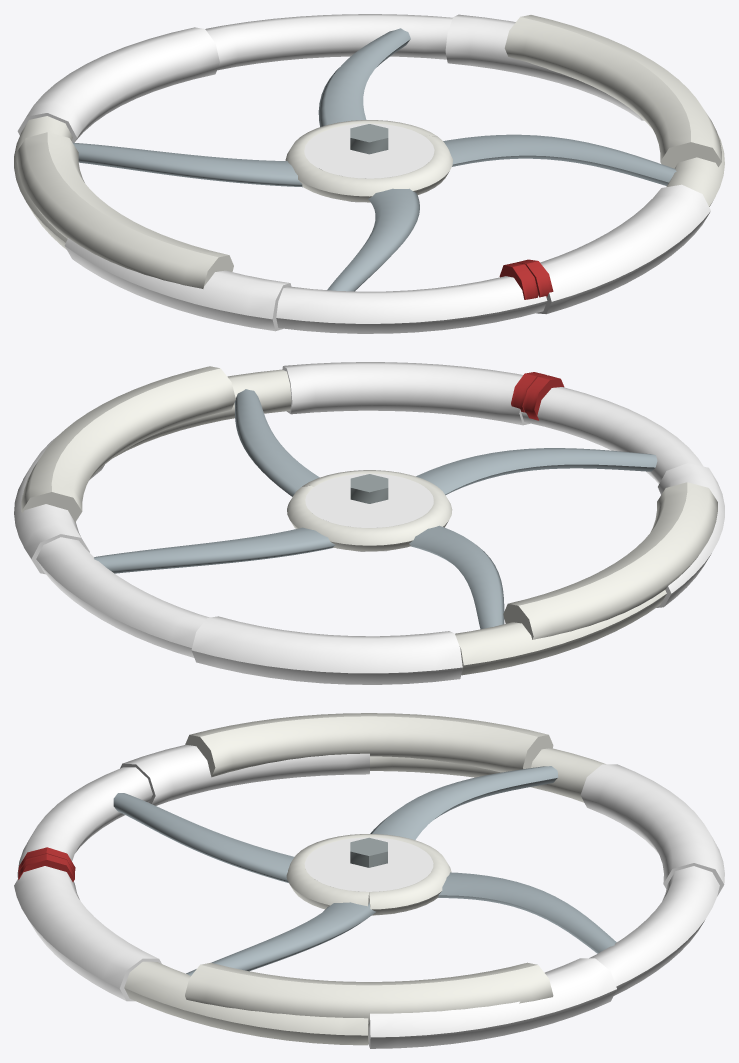
File: Wheel_10_R_外舷・群青.glb
3 views of the same model, one above another, from view 1: azimuth 30°, elevation 25°; view 2: azimuth 150°, elevation 25°; view 3: azimuth 270°, elevation 25° (orthographic).
Visible parts, largest first — view 1: Wheel_10_R; view 2: Wheel_10_R; view 3: Wheel_10_R.
Part boxes in pixels (x1,y1,x2,y2): Wheel_10_R: (14,14,724,333); Wheel_10_R: (14,362,724,684); Wheel_10_R: (14,713,724,1048).
Bounding box in the file's own units: 0.3261 × 0.0299 × 0.3262.
4 materials, 4 textured.
